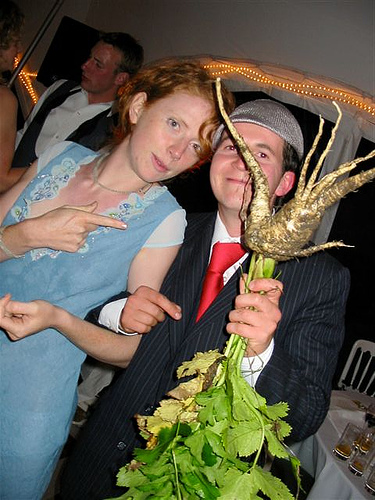turnip: (112, 73, 373, 498)
